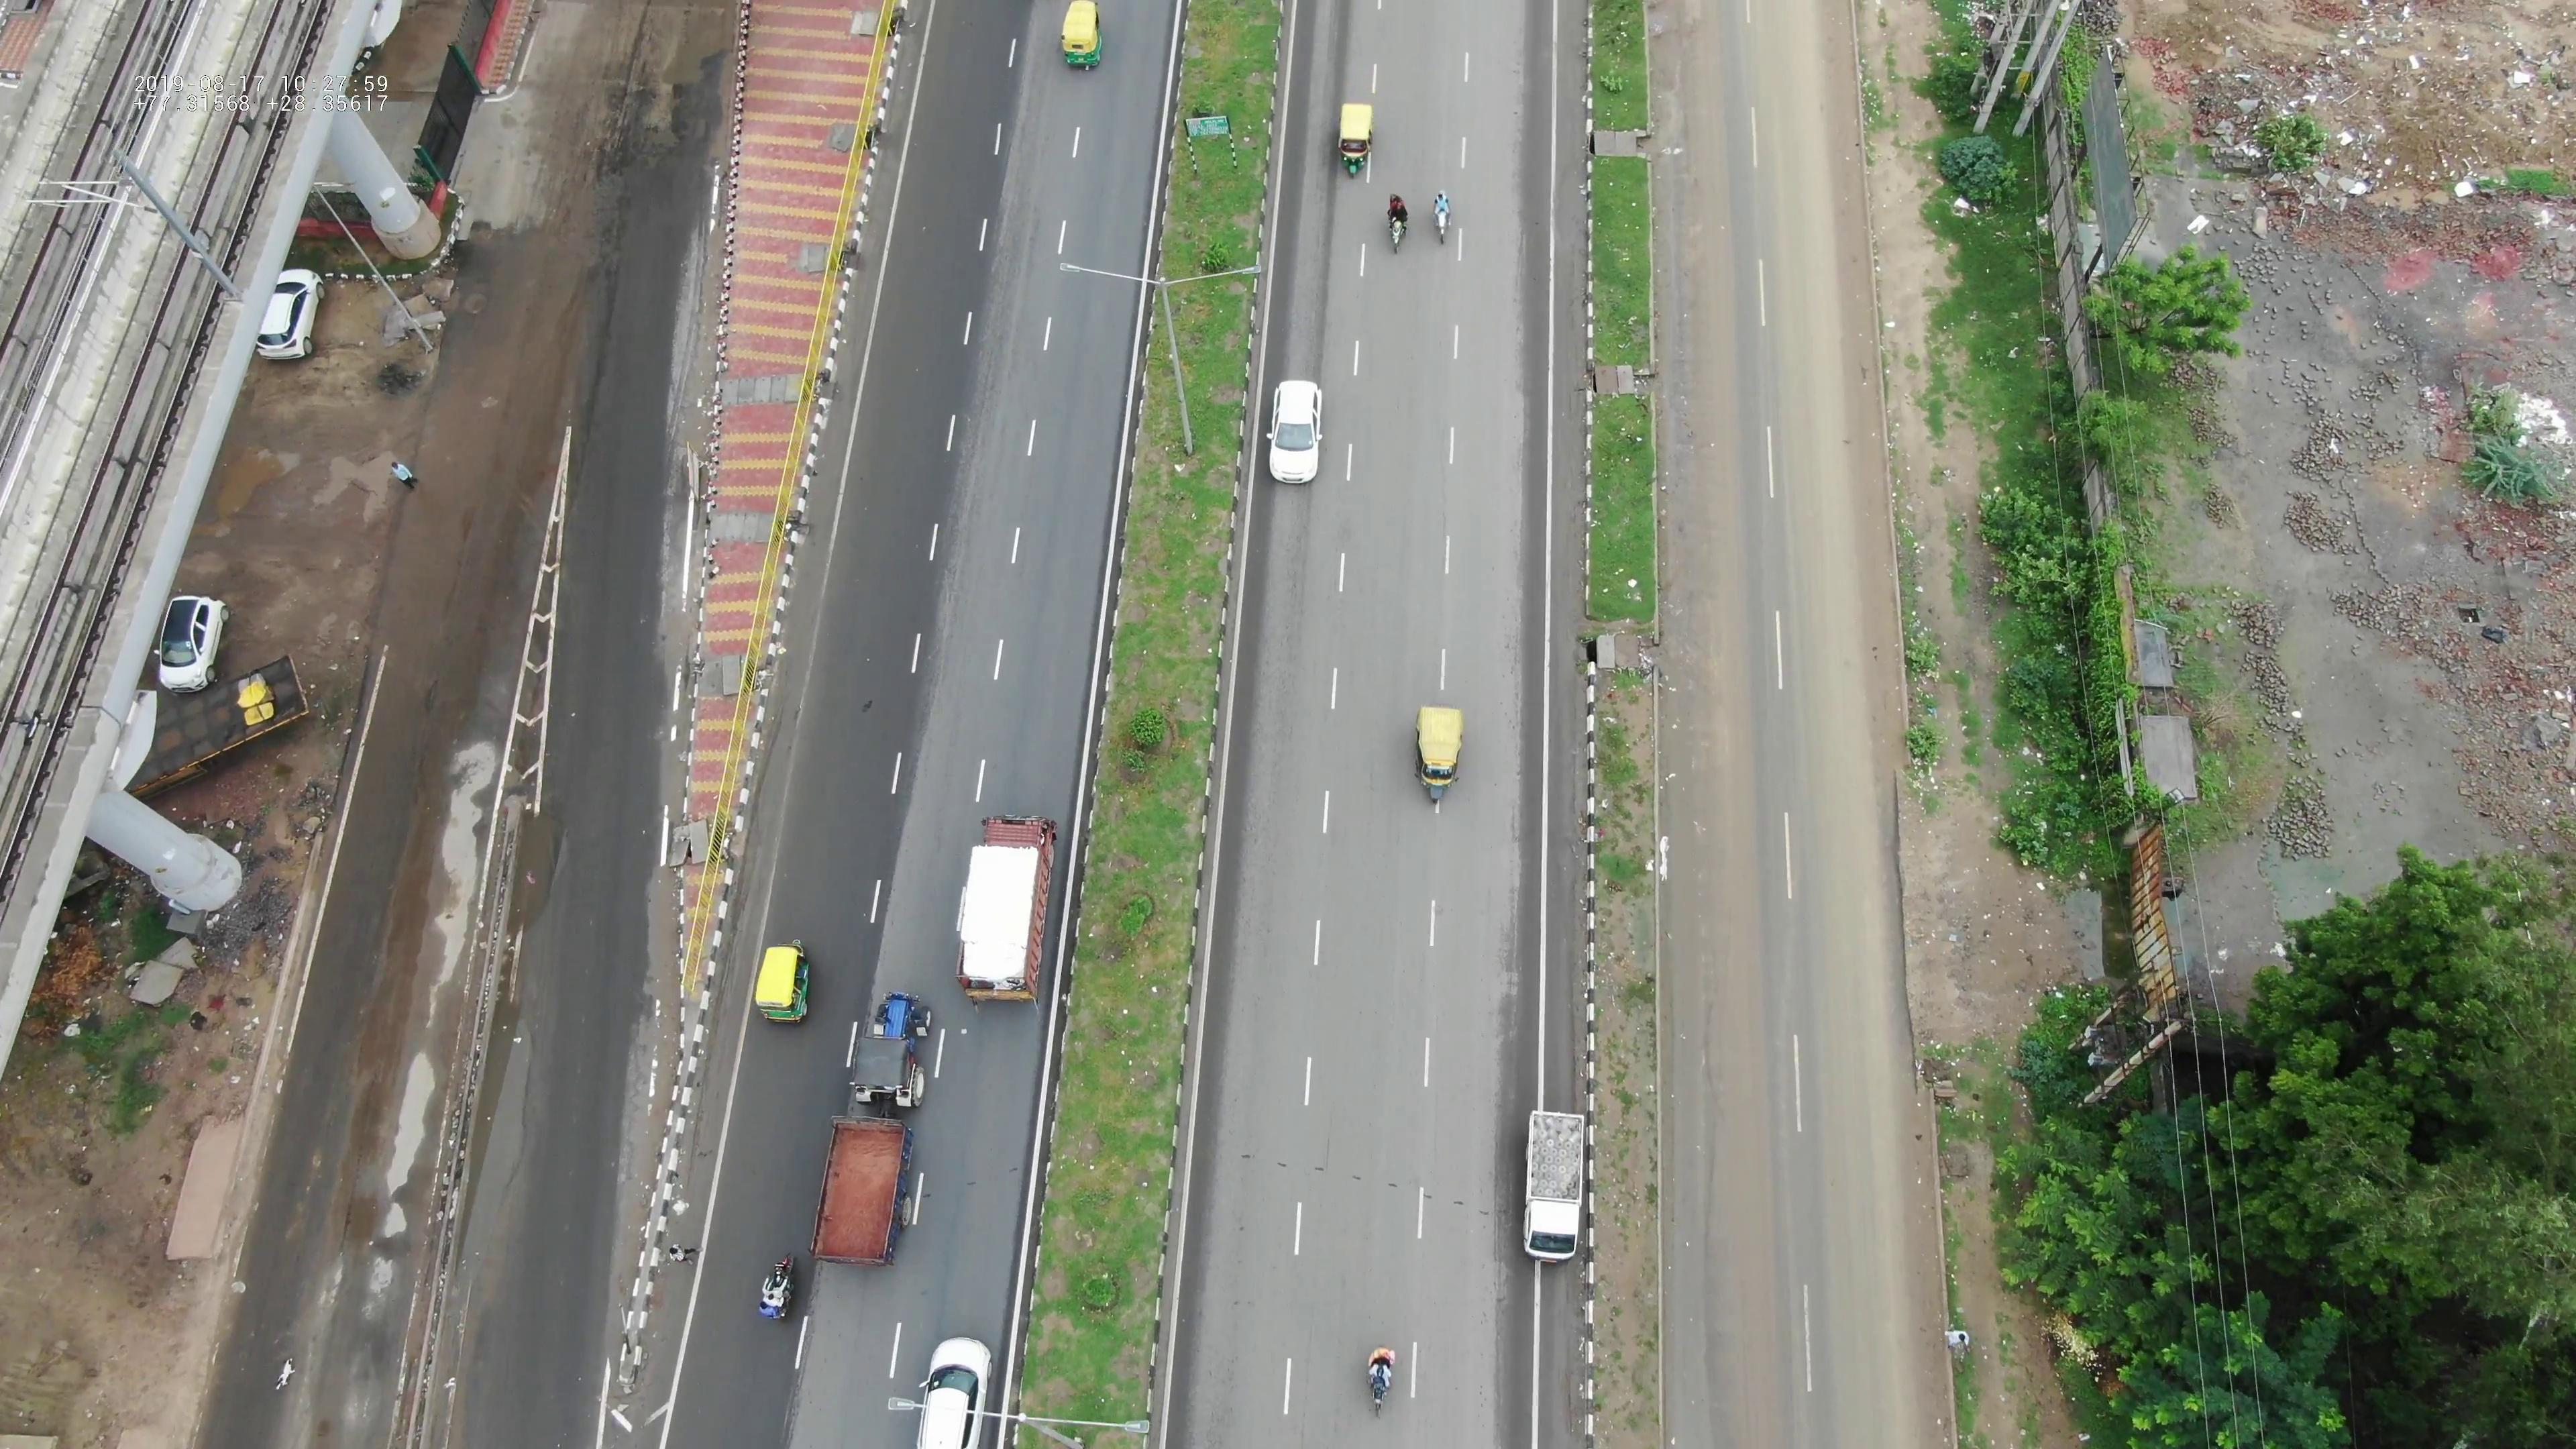Muddy_road: (1817, 1014, 1937, 1415), (1760, 27, 1898, 338), (1677, 1026, 1771, 1428), (1810, 621, 1909, 989), (1792, 340, 1904, 614), (1645, 340, 1737, 655), (1660, 683, 1752, 989), (1640, 21, 1725, 317)
Waterlogging: (490, 771, 584, 950)
